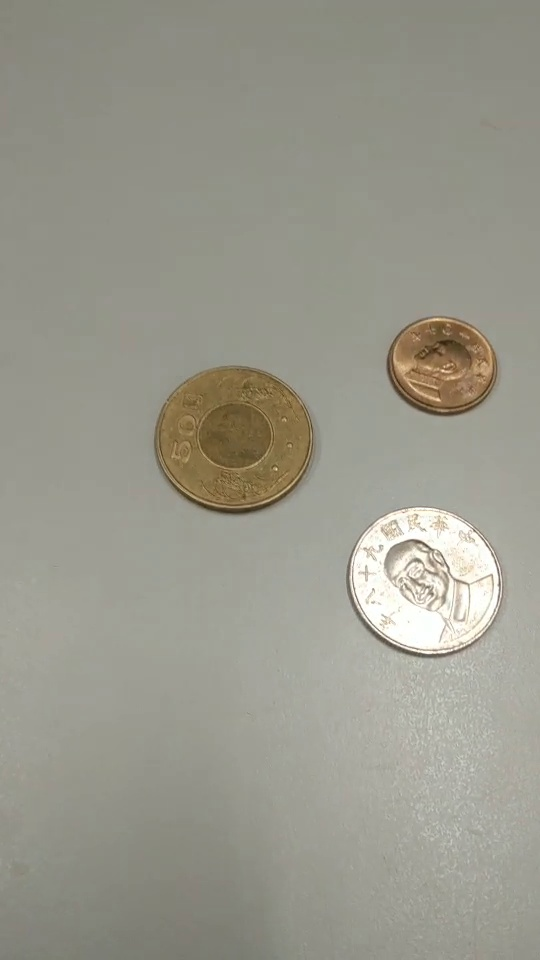NT$ 1: (385, 316, 499, 417)
NT$ 10: (348, 506, 505, 658)
NT$ 50: (153, 363, 315, 515)
